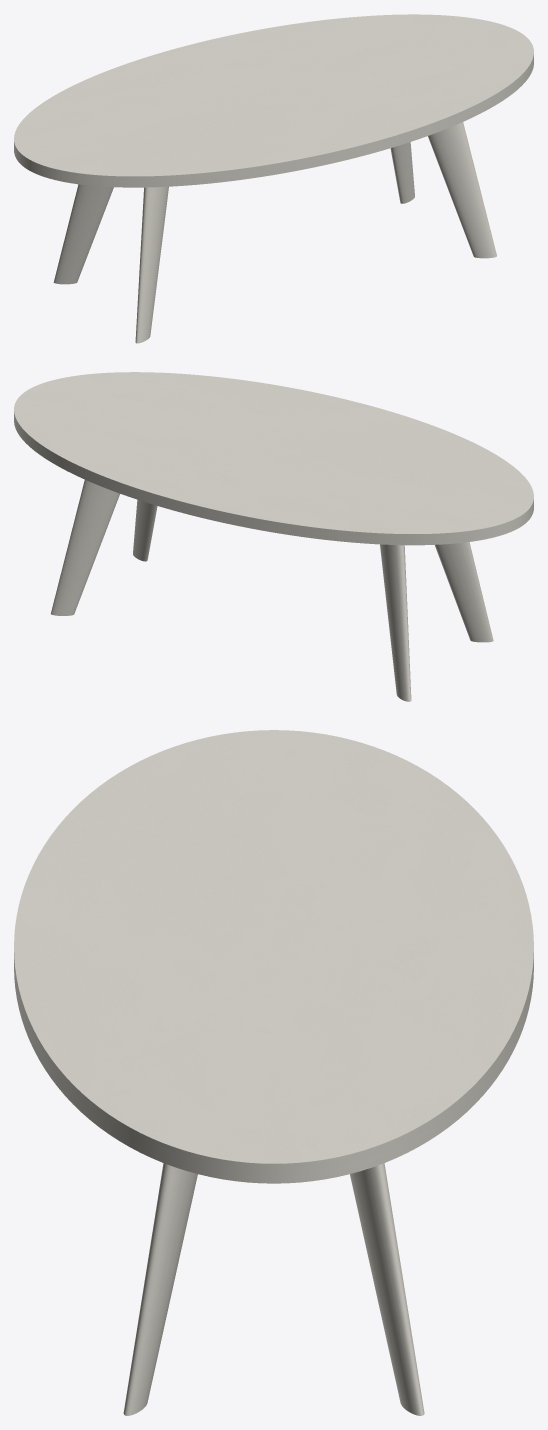
File: pale_ellips_standard_ferdinantwalnut.glb
3 views of the same model, one above another, from view 1: azimuth 30°, elevation 25°; view 2: azimuth 150°, elevation 25°; view 3: azimuth 270°, elevation 25° (orthographic). The views are drawn at different scales.
Parts seen in each view (by area): view 1: standard_ellips, ferdinandwalnut; view 2: standard_ellips, ferdinandwalnut; view 3: standard_ellips, ferdinandwalnut.
Part boxes in pixels (x1,y1,x2,y2): standard_ellips: (14, 14, 533, 187); ferdinandwalnut: (53, 122, 496, 343); standard_ellips: (14, 372, 533, 545); ferdinandwalnut: (51, 480, 493, 701); standard_ellips: (14, 730, 533, 1183); ferdinandwalnut: (123, 1163, 424, 1415).
Size of the model in its own units: 7.5 by 2.51 by 3.8.
1 material, 1 textured.
